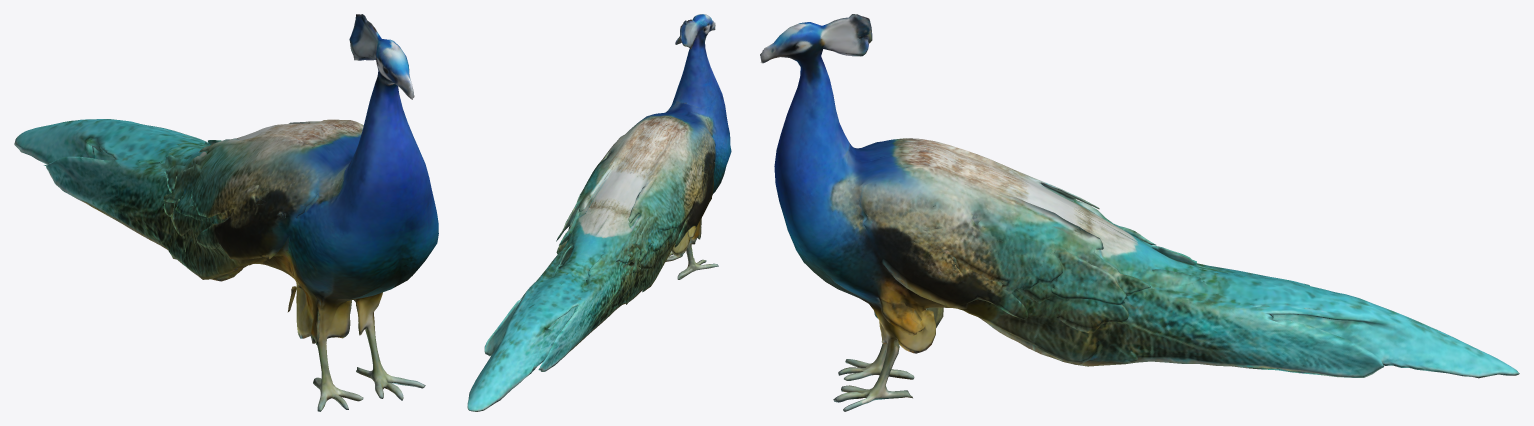
File: peacock.glb
3 renders of one model, left to right at view 1: azimuth 30°, elevation 25°; view 2: azimuth 150°, elevation 25°; view 3: azimuth 270°, elevation 25°, orthographic. The views are drawn at different scales.
Visible parts, largest first — view 1: Object_2; view 2: Object_2; view 3: Object_2.
Boxes of the visible parts, x1,y1,x2,y2 form: Object_2: [14, 14, 438, 411]; Object_2: [467, 14, 731, 411]; Object_2: [760, 14, 1519, 411].
Size of the model in its own units: 0.3202 by 0.7151 by 1.31.
1 material, 1 textured.
